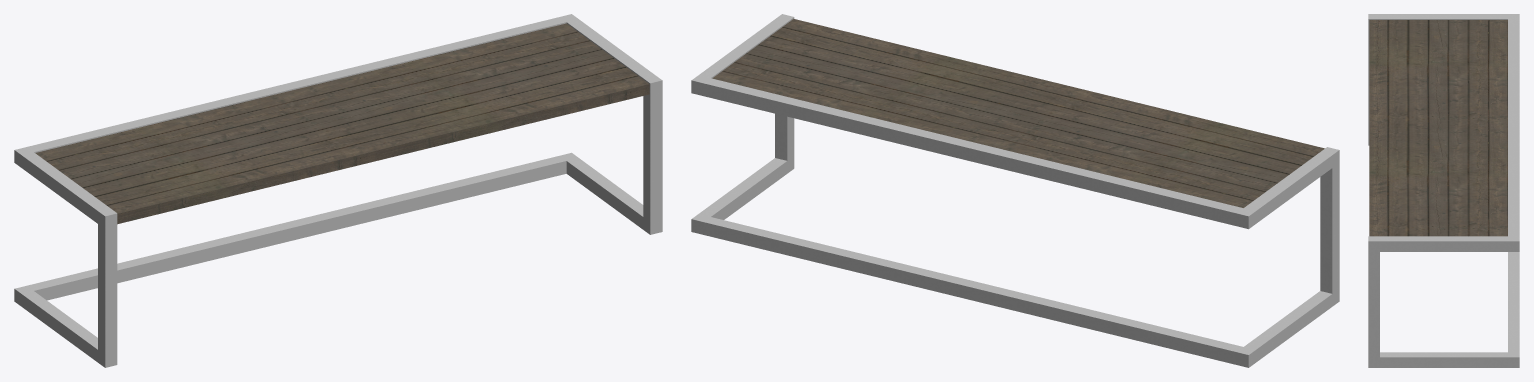
Rendered from Lavička2.obj.
The picture shows the model from 3 angles, left to right: view 1: azimuth 30°, elevation 25°; view 2: azimuth 150°, elevation 25°; view 3: azimuth 270°, elevation 25°; orthographic projection. The views are drawn at different scales.
Parts seen in each view (by area): view 1: Mesh1 Group1 Model; view 2: Mesh1 Group1 Model; view 3: Mesh1 Group1 Model.
Part boxes in pixels (left/top/right/bottom): Mesh1 Group1 Model: left=14, top=14, right=662, bottom=367; Mesh1 Group1 Model: left=691, top=14, right=1339, bottom=367; Mesh1 Group1 Model: left=1368, top=14, right=1519, bottom=367.
Bounding box in the file's own units: 2.27 × 0.59 × 0.64.
Materials: 3 (2 with a texture image).
